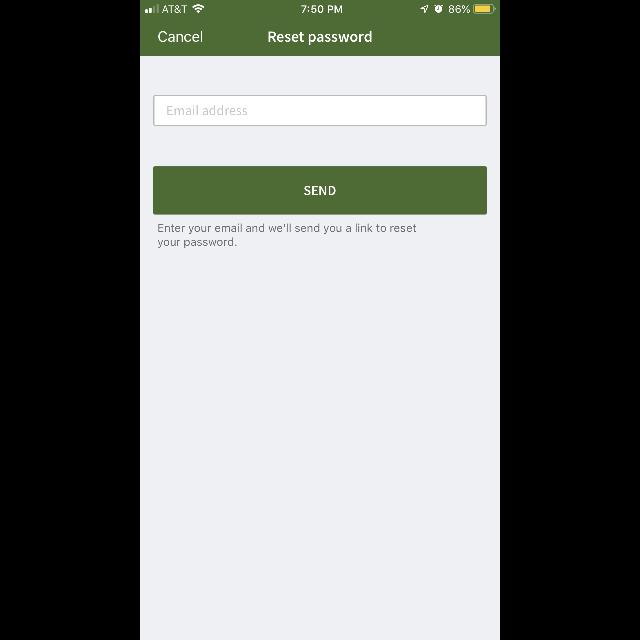input: (154, 95, 486, 126)
text: (158, 224, 416, 248), (268, 31, 372, 45), (168, 105, 248, 115), (159, 31, 203, 43)
textbutton: (154, 167, 486, 215)
uppertaskbar: (140, 0, 500, 14)
